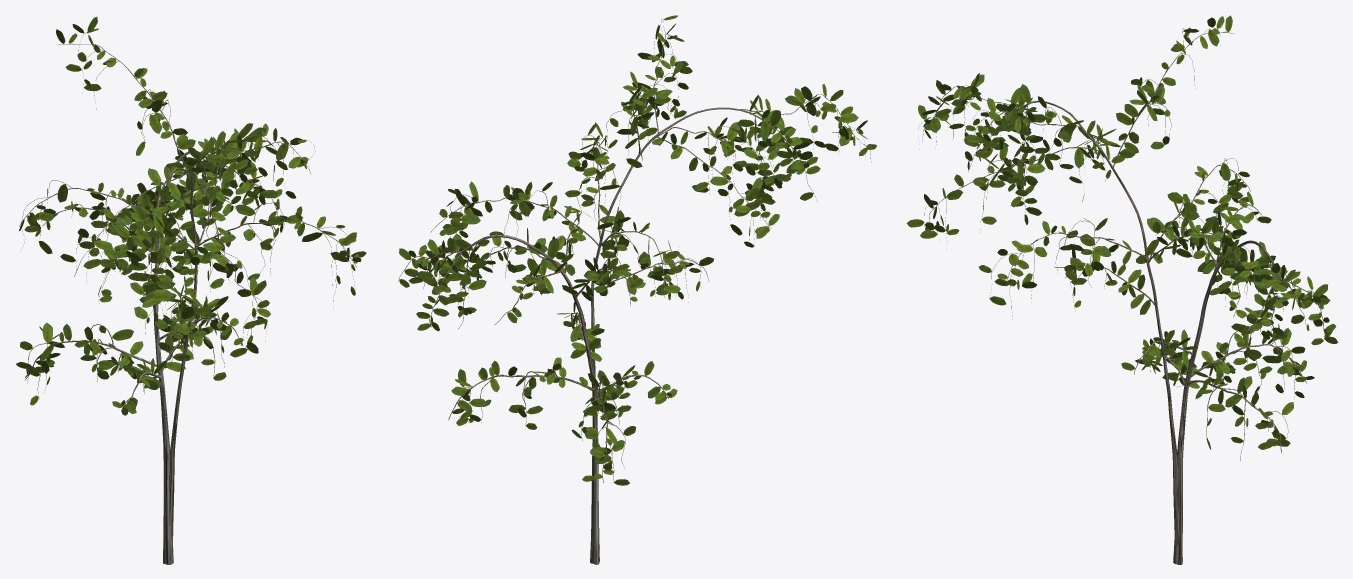
The picture shows the model from 3 angles, left to right: view 1: azimuth 30°, elevation 25°; view 2: azimuth 150°, elevation 25°; view 3: azimuth 270°, elevation 25°; orthographic projection. The views are drawn at different scales.
Visible parts, largest first — view 1: QD-吊钟; view 2: QD-吊钟; view 3: QD-吊钟.
Part boxes in pixels (x1=…): QD-吊钟: x1=16, y1=16, x2=366, y2=564; QD-吊钟: x1=398, y1=15, x2=876, y2=564; QD-吊钟: x1=906, y1=15, x2=1338, y2=564.
Bounding box in the file's own units: 0.3818 × 0.4663 × 0.62.
